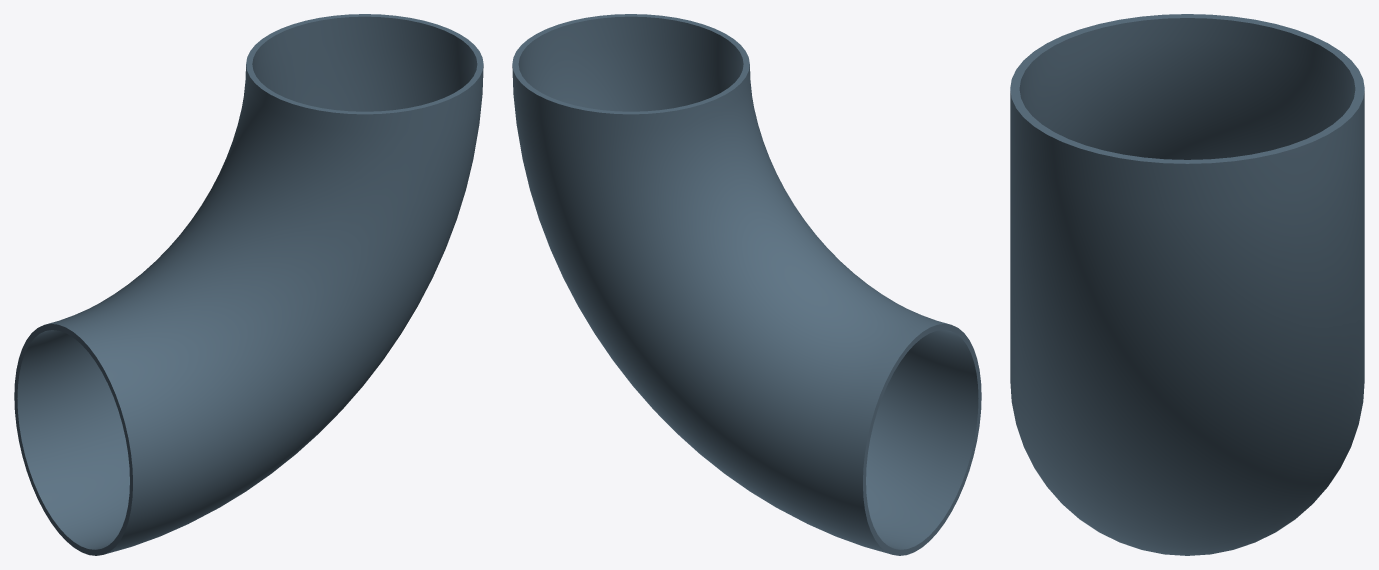
Rendered from otvod-90-530x14-R750.glb.
The picture shows the model from 3 angles, left to right: view 1: azimuth 30°, elevation 25°; view 2: azimuth 150°, elevation 25°; view 3: azimuth 270°, elevation 25°; orthographic projection. The views are drawn at different scales.
Parts seen in each view (by area): view 1: Open CASCADE STEP translator 7.9 100; view 2: Open CASCADE STEP translator 7.9 100; view 3: Open CASCADE STEP translator 7.9 100.
Boxes of the visible parts, left/top/right/bottom form: Open CASCADE STEP translator 7.9 100: left=14, top=14, right=483, bottom=555; Open CASCADE STEP translator 7.9 100: left=512, top=14, right=981, bottom=555; Open CASCADE STEP translator 7.9 100: left=1010, top=14, right=1364, bottom=555.
Size of the model in its own units: 1015 by 1015 by 530.
